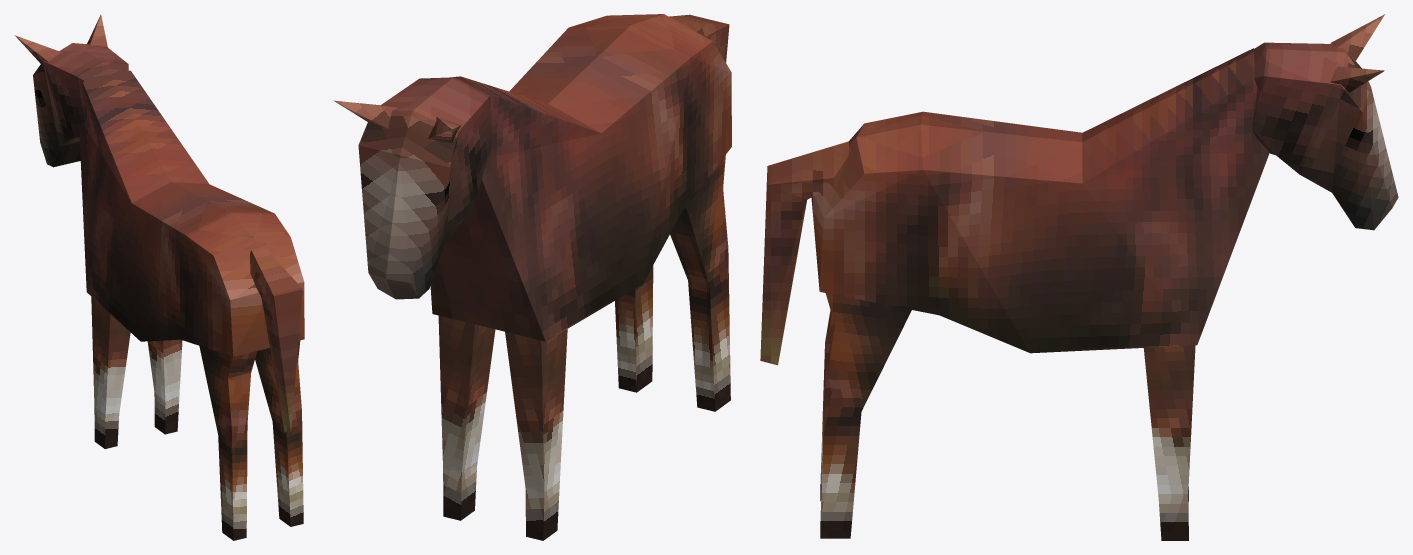
Rendered from Horse_Horse_Chestnut.glb.
3 views of the same model, side by side, from view 1: azimuth 30°, elevation 25°; view 2: azimuth 150°, elevation 25°; view 3: azimuth 270°, elevation 25° (orthographic). The views are drawn at different scales.
Parts seen in each view (by area): view 1: Body, Head, Leg3, Leg4, Leg1, Leg2; view 2: Body, Head, Leg3, Leg1, Leg2, Leg4; view 3: Body, Head, Leg4, Leg2.
Boxes of the visible parts, left/top/right/bottom form: Body: left=79, top=69, right=304, bottom=432; Head: left=14, top=14, right=128, bottom=167; Leg3: left=199, top=346, right=257, bottom=540; Leg4: left=255, top=340, right=303, bottom=526; Leg1: left=91, top=297, right=130, bottom=448; Leg2: left=147, top=339, right=182, bottom=434; Body: left=430, top=14, right=731, bottom=341; Head: left=333, top=77, right=491, bottom=299; Leg3: left=670, top=155, right=730, bottom=411; Leg1: left=505, top=329, right=567, bottom=540; Leg2: left=438, top=315, right=495, bottom=520; Leg4: left=615, top=265, right=653, bottom=392; Body: left=760, top=48, right=1269, bottom=365; Head: left=1252, top=14, right=1398, bottom=230; Leg4: left=820, top=293, right=911, bottom=538; Leg2: left=1143, top=345, right=1195, bottom=540.
Bounding box in the file's own units: 0.4986 × 1.71 × 2.08.
Materials: 1 (1 with a texture image).
